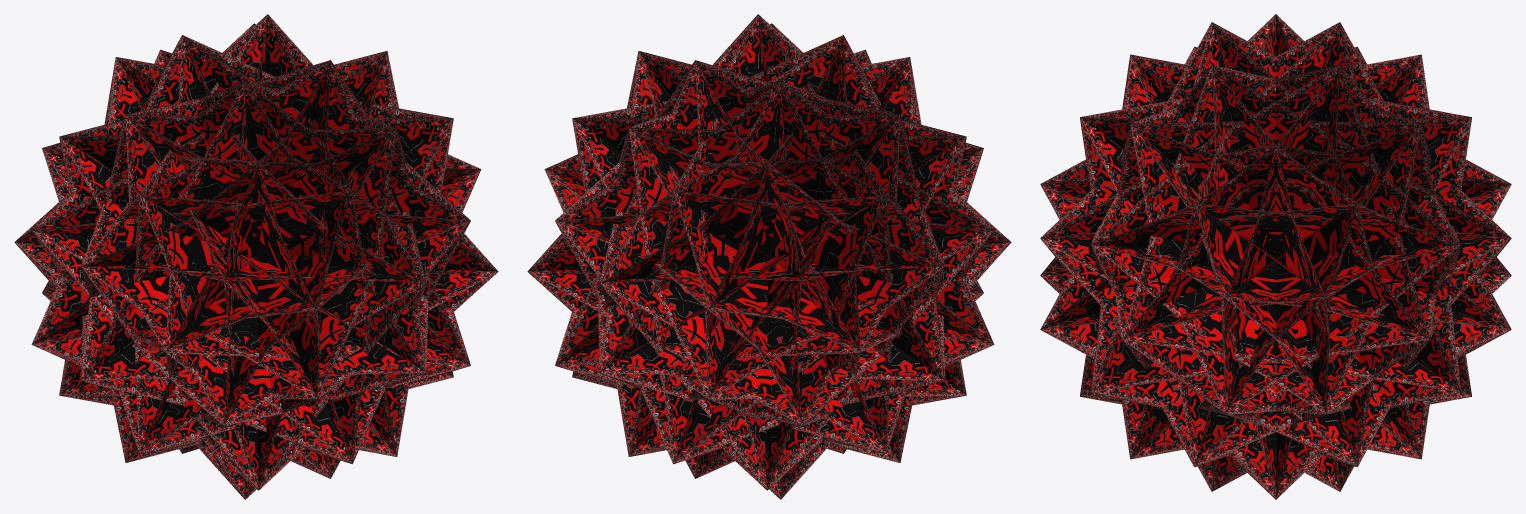
File: 0GreatDirhombicosidodecahedron.gltf
3 renders of one model, left to right at view 1: azimuth 30°, elevation 25°; view 2: azimuth 150°, elevation 25°; view 3: azimuth 270°, elevation 25°, orthographic. The views are drawn at different scales.
Parts seen in each view (by area): view 1: GreatDirhombicosidodecahedron12; view 2: GreatDirhombicosidodecahedron12; view 3: GreatDirhombicosidodecahedron12.
Part boxes in pixels (x1=…): GreatDirhombicosidodecahedron12: x1=14, y1=14, x2=498, y2=499; GreatDirhombicosidodecahedron12: x1=527, y1=14, x2=1011, y2=499; GreatDirhombicosidodecahedron12: x1=1040, y1=14, x2=1511, y2=499.
Size of the model in its own units: 1.34 by 1.34 by 1.34.
1 material, 1 textured.
